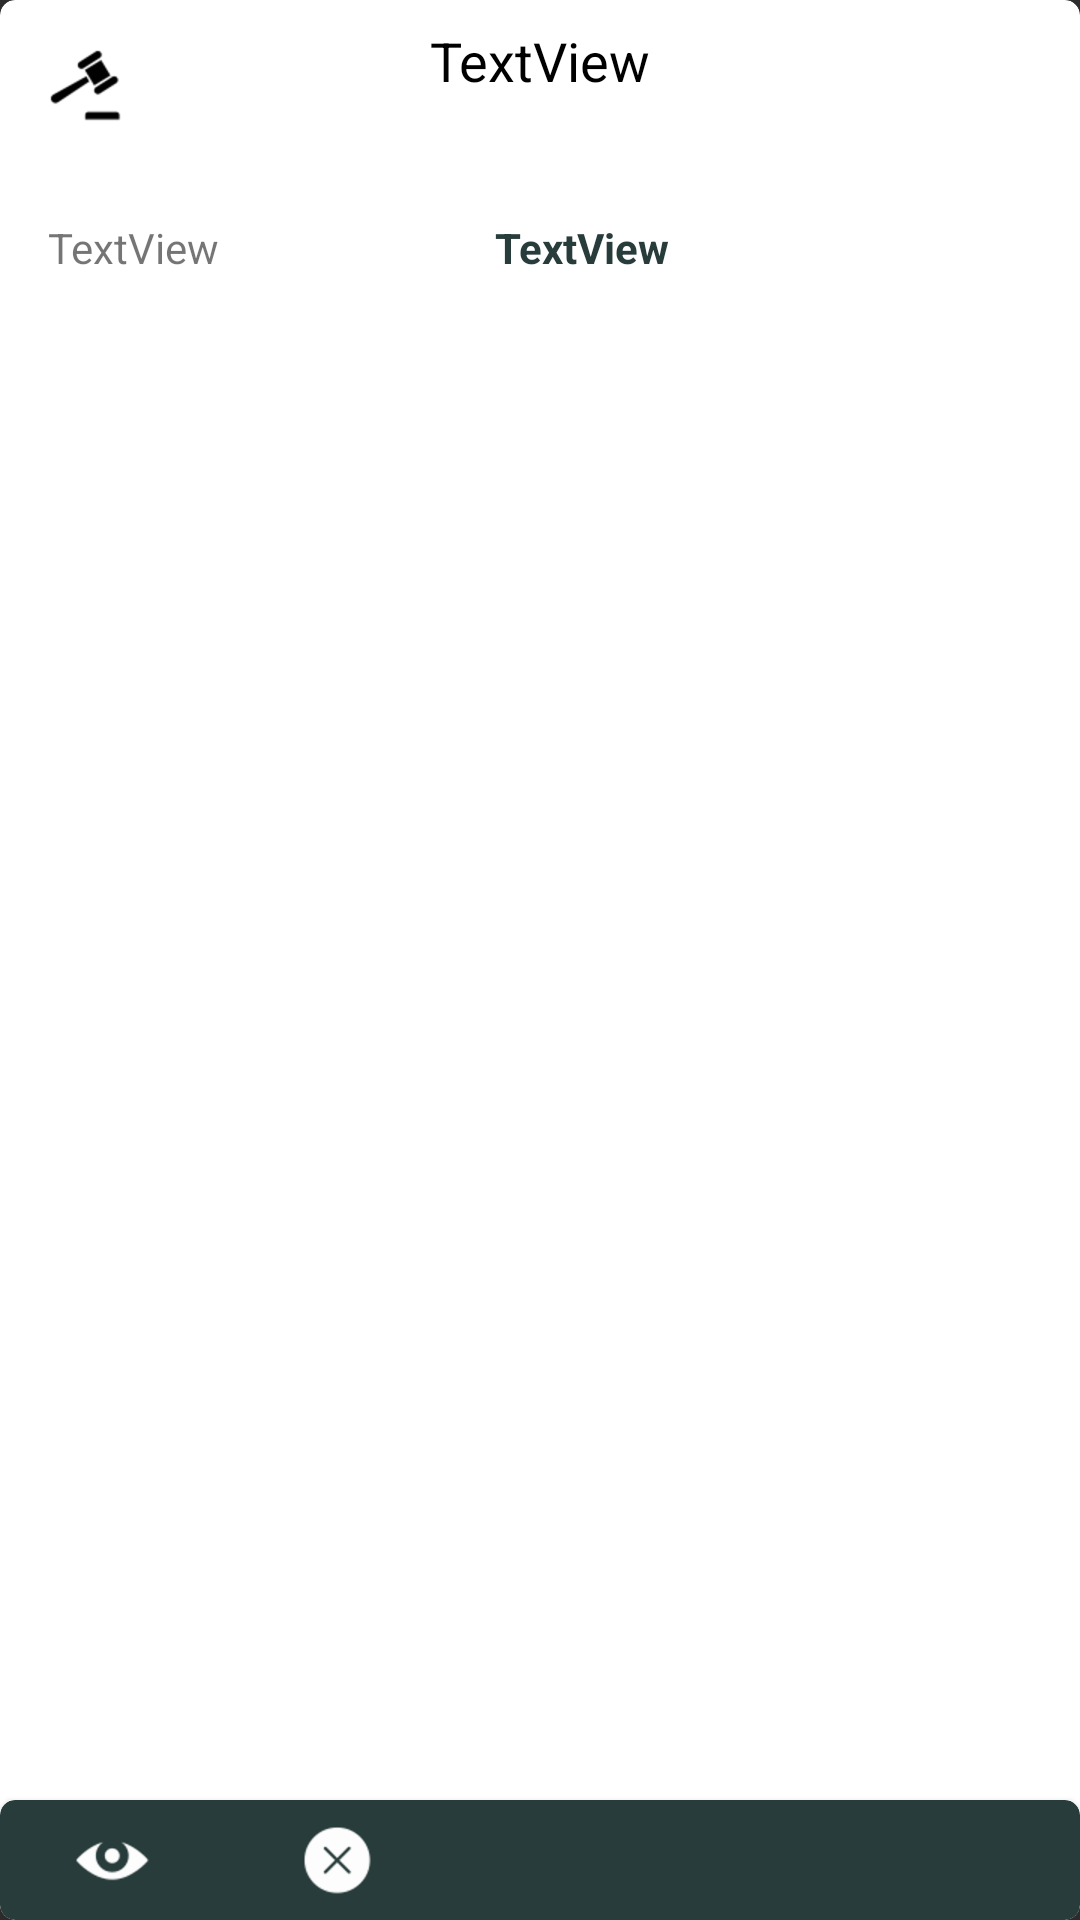

Screen size 1080x1920. Icon name, then its box in pixels as (left=x1, top=y1, right=x2, bottom=y2):
court: (left=50, top=50, right=120, bottom=121)
delete cross: (left=304, top=1827, right=371, bottom=1894)
